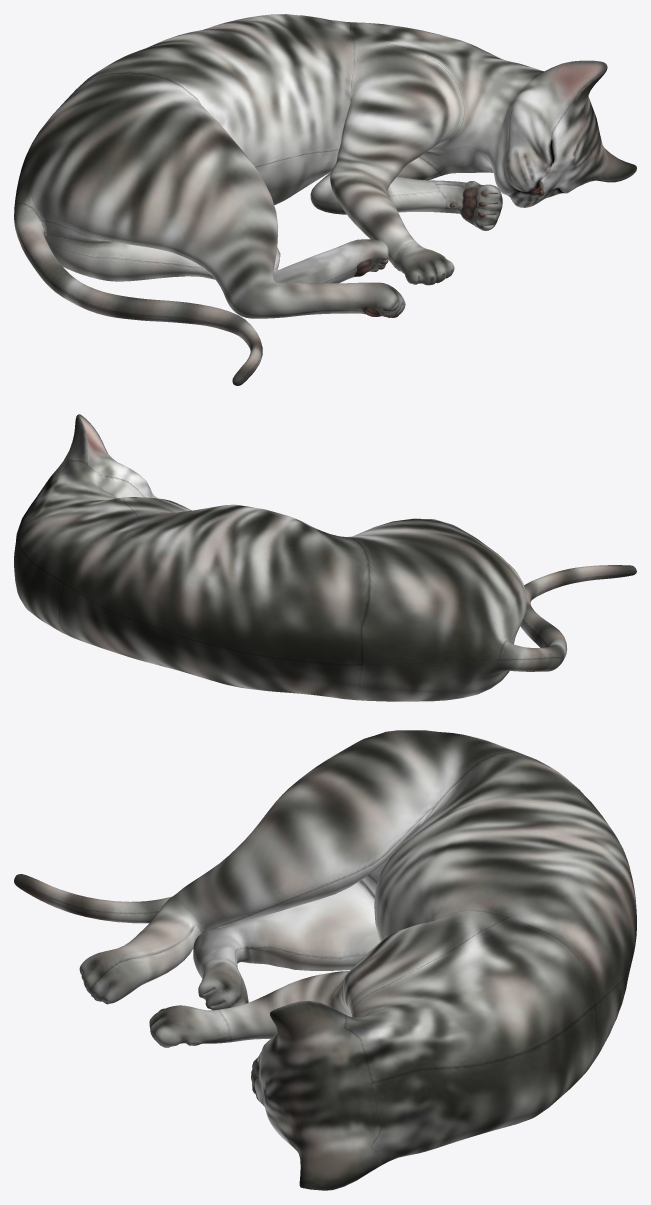
The model's file is sleeping_cat.glb.
3 renders of one model, top to bottom at view 1: azimuth 30°, elevation 25°; view 2: azimuth 150°, elevation 25°; view 3: azimuth 270°, elevation 25°, orthographic. The views are drawn at different scales.
Visible parts, largest first — view 1: cat_cat1222_0, cat_cat223_0; view 2: cat_cat1222_0; view 3: cat_cat1222_0.
Part boxes in pixels (x1,y1,x2,y2): cat_cat1222_0: (14, 14, 636, 385); cat_cat223_0: (354, 181, 544, 317); cat_cat1222_0: (14, 414, 636, 701); cat_cat1222_0: (14, 730, 636, 1190).
Size of the model in its own units: 0.4476 by 0.1156 by 0.3433.
Materials: 2 (2 with a texture image).
